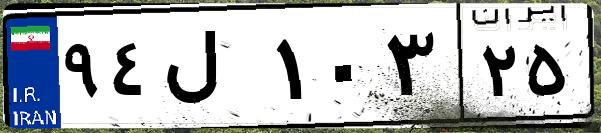0: (330, 28, 385, 110)
1: (270, 28, 330, 110)
2: (475, 38, 525, 113)
3: (385, 28, 445, 110)
4: (110, 28, 158, 98)
5: (525, 38, 570, 115)
9: (57, 26, 110, 100)
ل: (158, 20, 270, 120)
